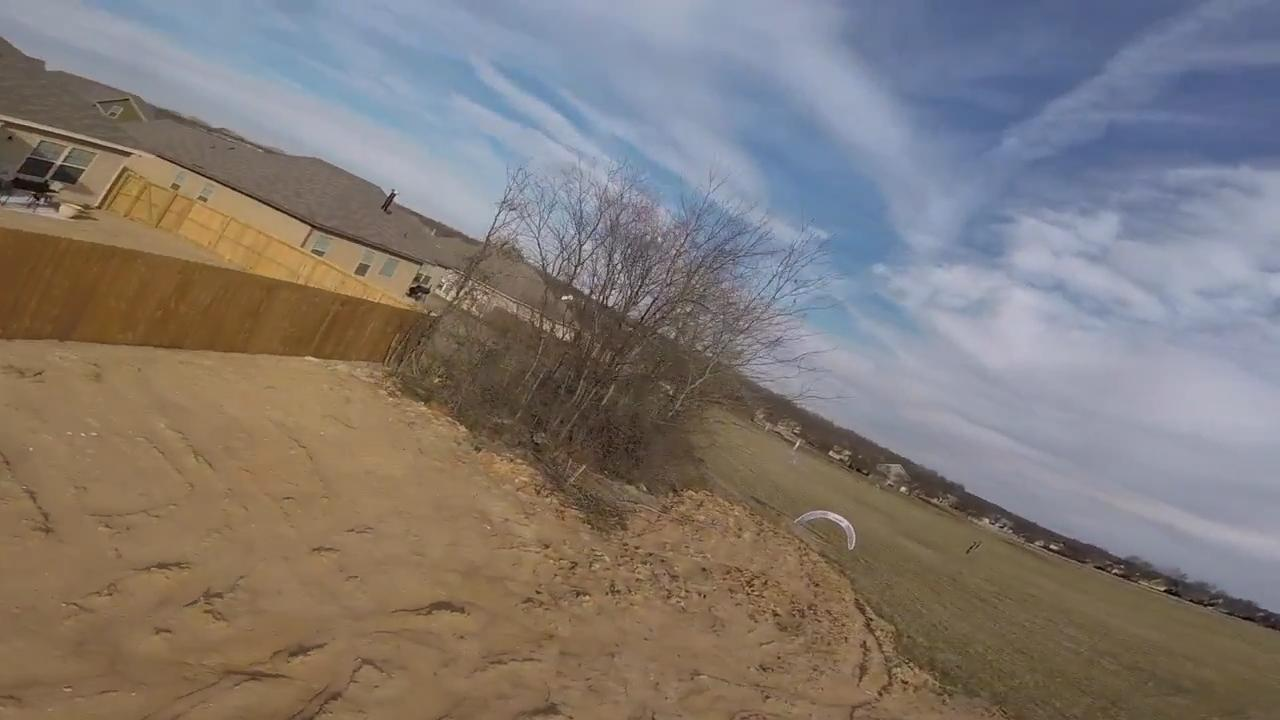gate: (793, 508, 856, 553)
